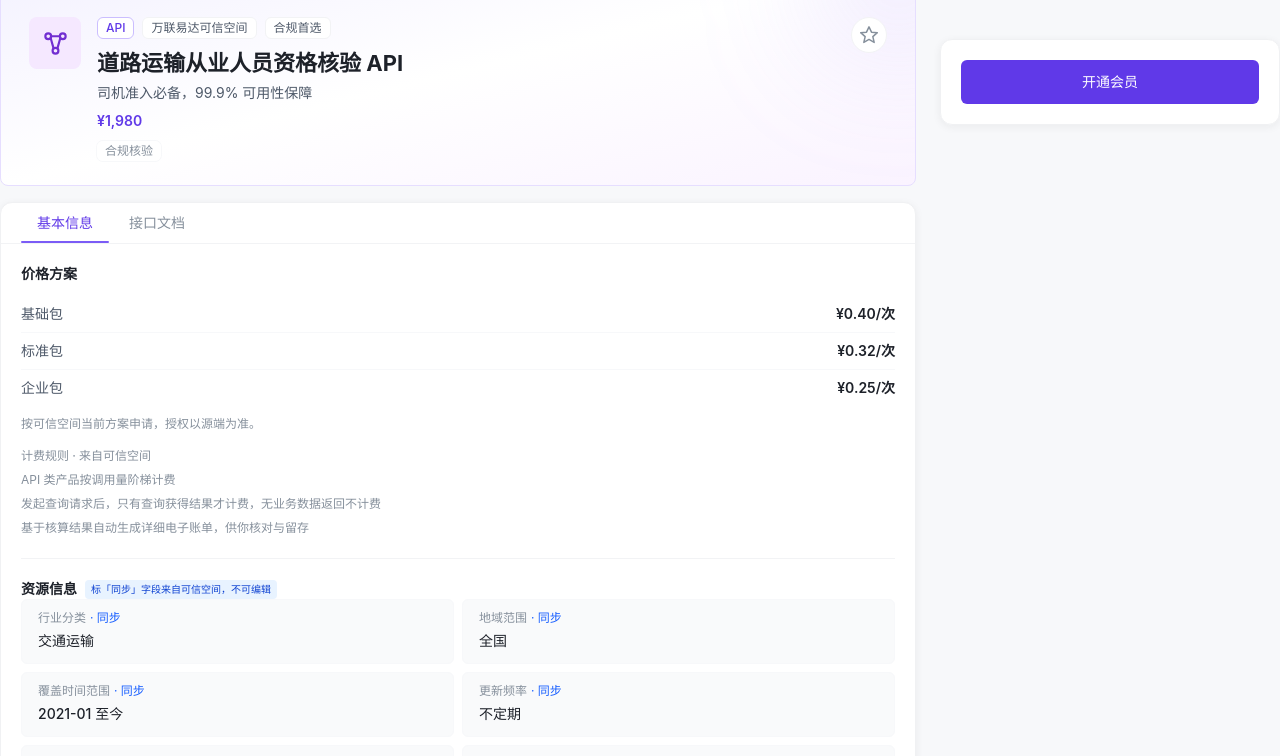
PortalProductDetail space intent CTA › keeps space API tabs to basic and docs, with error messages under docs and no provider in resource info
The width and height of the screenshot is (1280, 756).
Expected: the element with test id "detail-resource-info" shows "覆盖时间范围", [38,683,110,698]
Click the button "接口文档" at point(157, 223), box [113,203,201,243]
(page scrolled)
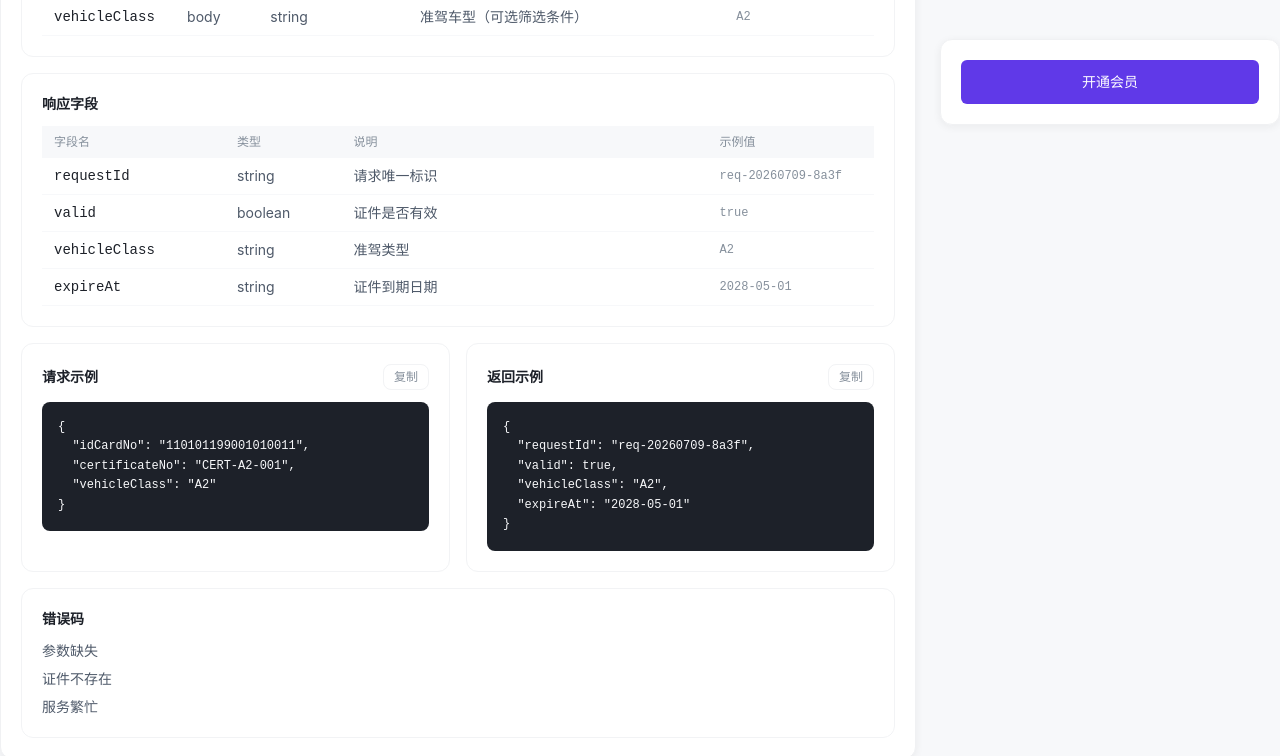
Now the element with test id "api-error-codes" shows "错误码", box [42,610,84,627]
Now the element with test id "api-error-codes" shows "参数缺失", box [42,642,98,659]
